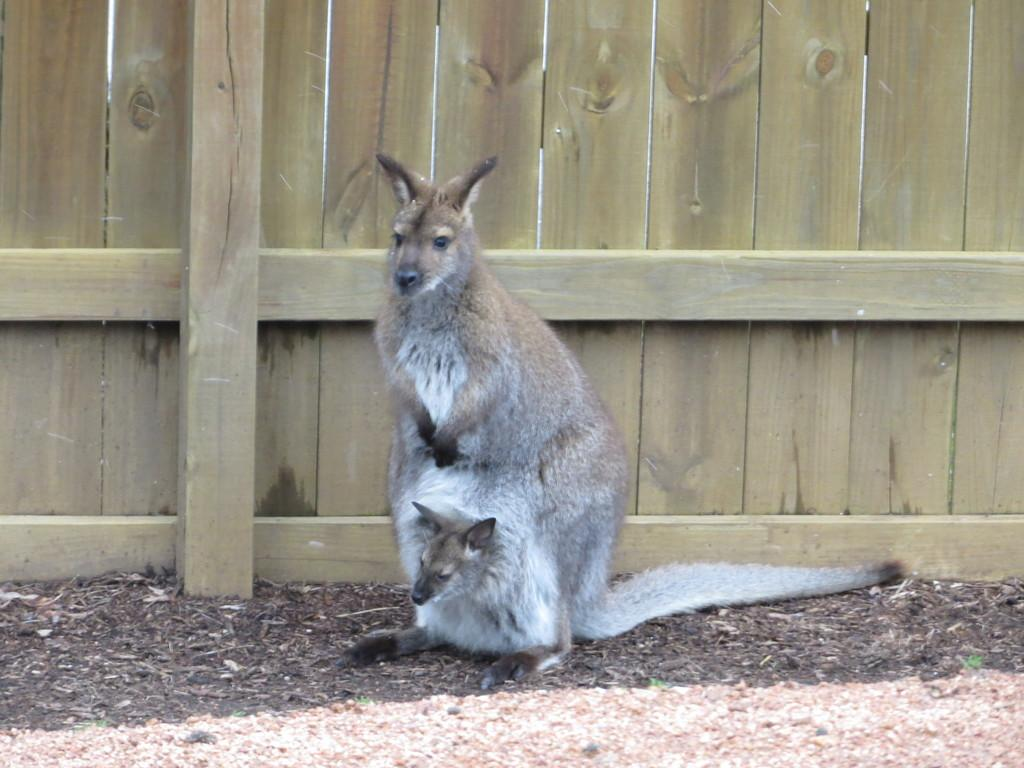kangaroo: (332, 157, 908, 693)
